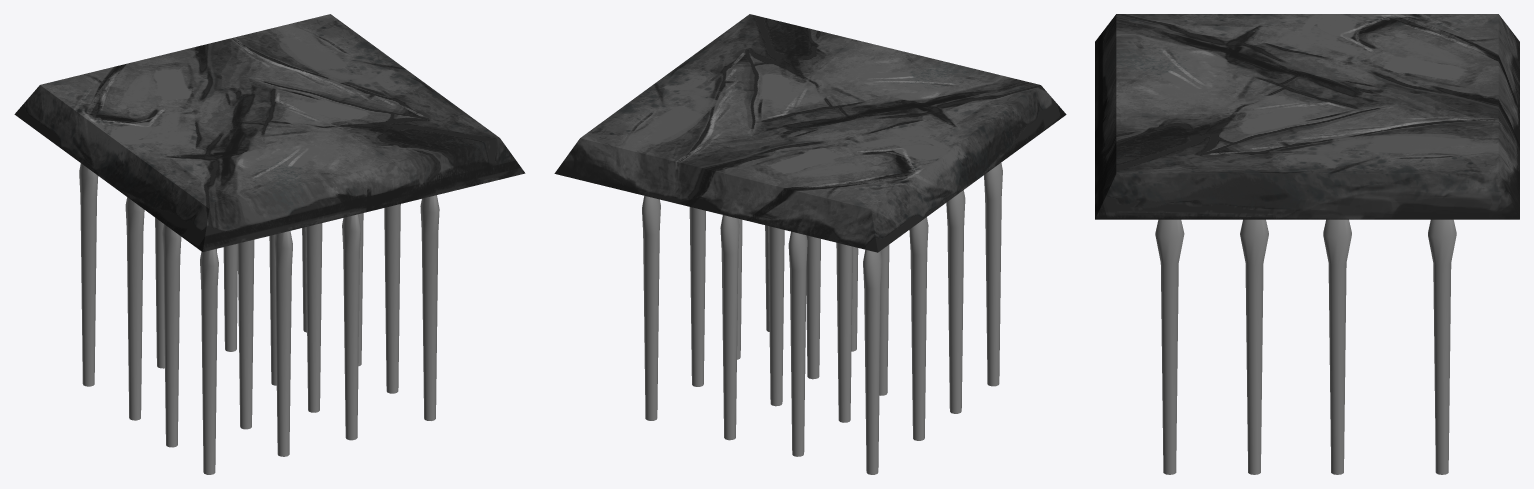
Rendered from GroundSPikes.FBX.
The picture shows the model from 3 angles, left to right: view 1: azimuth 30°, elevation 25°; view 2: azimuth 150°, elevation 25°; view 3: azimuth 270°, elevation 25°; orthographic projection. The views are drawn at different scales.
Parts seen in each view (by area): view 1: Pressureplate large, Cylinder002, Cylinder009, Cylinder017, Cylinder013, Cylinder005, Cylinder003, Cylinder004, Cylinder014, Cylinder006, Cylinder010, Cylinder012 (+3 smaller); view 2: Pressureplate large, Cylinder012, Cylinder005, Cylinder008, Cylinder016, Cylinder003, Cylinder004, Cylinder002, Cylinder007, Cylinder011, Cylinder015, Cylinder010 (+3 smaller); view 3: Pressureplate large, Cylinder015, Cylinder016, Cylinder014, Cylinder017.
Part boxes in pixels (box(x1,y1,x2,y2)): Pressureplate large: box(14, 14, 525, 251); Cylinder002: box(200, 249, 218, 474); Cylinder009: box(274, 231, 292, 456); Cylinder017: box(420, 195, 439, 420); Cylinder013: box(342, 214, 360, 440); Cylinder005: box(79, 163, 98, 386); Cylinder003: box(162, 224, 181, 447); Cylinder004: box(125, 197, 144, 420); Cylinder014: box(384, 204, 400, 393); Cylinder006: box(237, 240, 254, 429); Cylinder010: box(305, 223, 322, 412); Cylinder012: box(223, 244, 237, 351); Pressureplate large: box(554, 14, 1066, 252); Cylinder012: box(720, 215, 739, 440); Cylinder005: box(863, 249, 881, 474); Cylinder008: box(788, 231, 807, 456); Cylinder016: box(642, 196, 660, 420); Cylinder003: box(946, 190, 965, 413); Cylinder004: box(909, 217, 928, 440); Cylinder002: box(984, 163, 1002, 386); Cylinder007: box(836, 242, 852, 422); Cylinder011: box(768, 226, 784, 406); Cylinder015: box(689, 207, 705, 386); Cylinder010: box(806, 235, 820, 379); Pressureplate large: box(1095, 14, 1519, 219); Cylinder015: box(1323, 219, 1351, 474); Cylinder016: box(1428, 219, 1456, 474); Cylinder014: box(1240, 219, 1268, 474); Cylinder017: box(1155, 219, 1184, 474).
Size of the model in its own units: 0.3755 by 0.3186 by 0.3792.
Materials: 2 (1 with a texture image).
